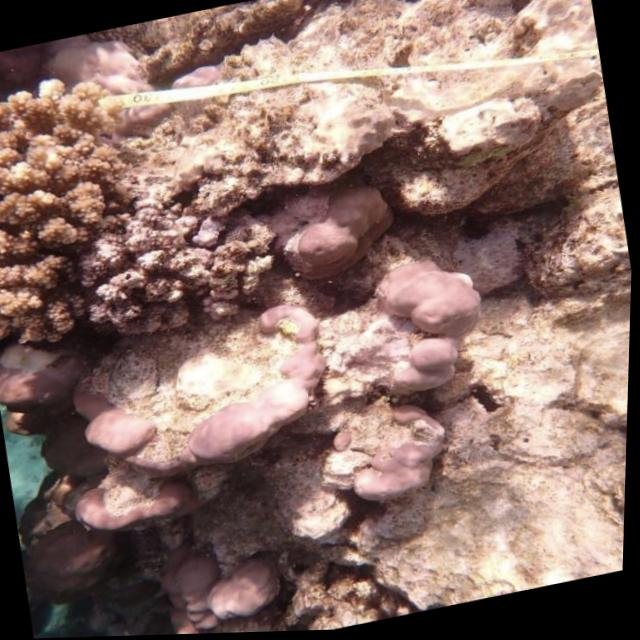Bleached Coral: (141, 292, 324, 451)
